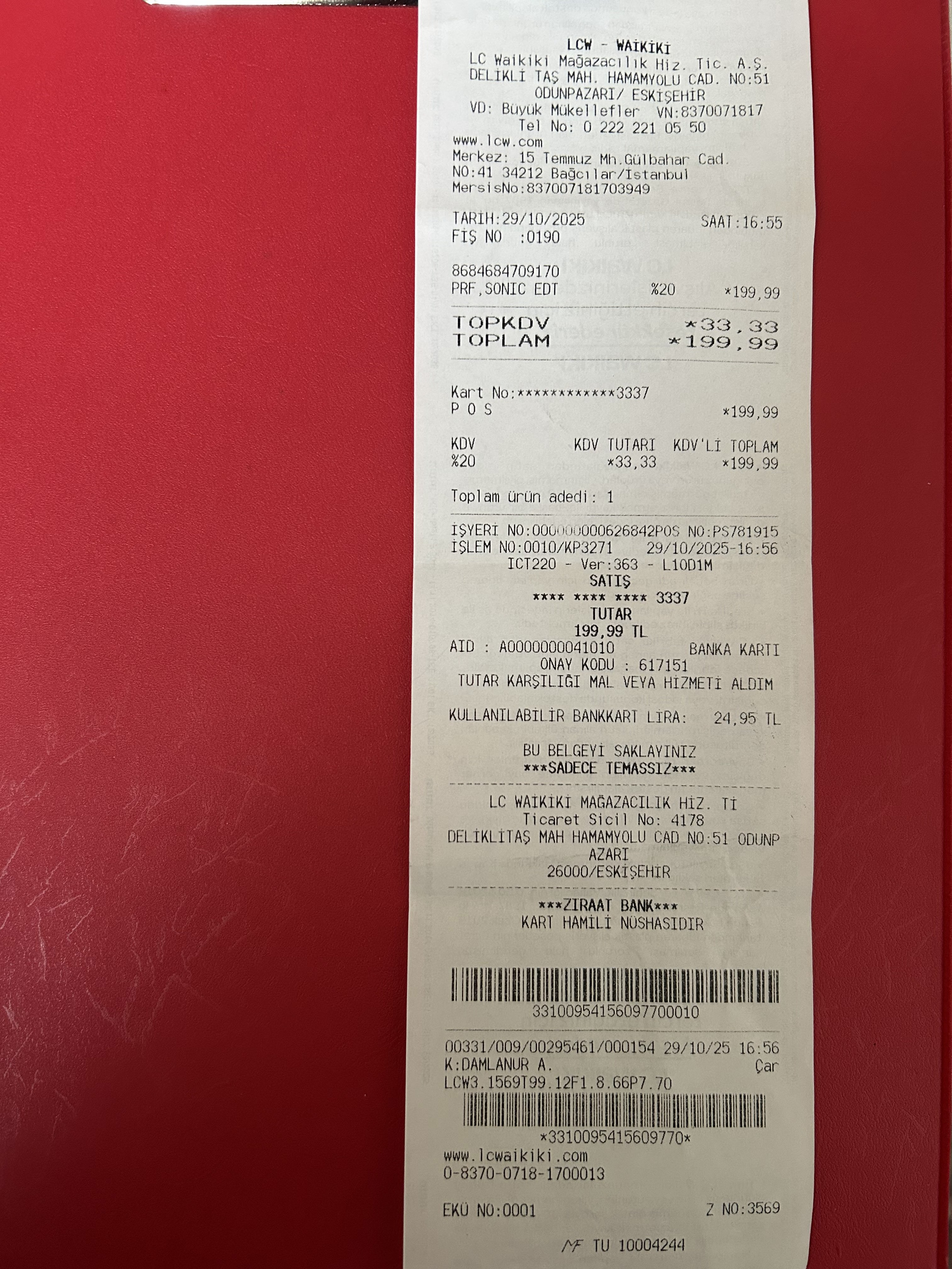date: (681, 332, 783, 360)
price: (500, 208, 587, 227)
workplace: (458, 29, 779, 105)
